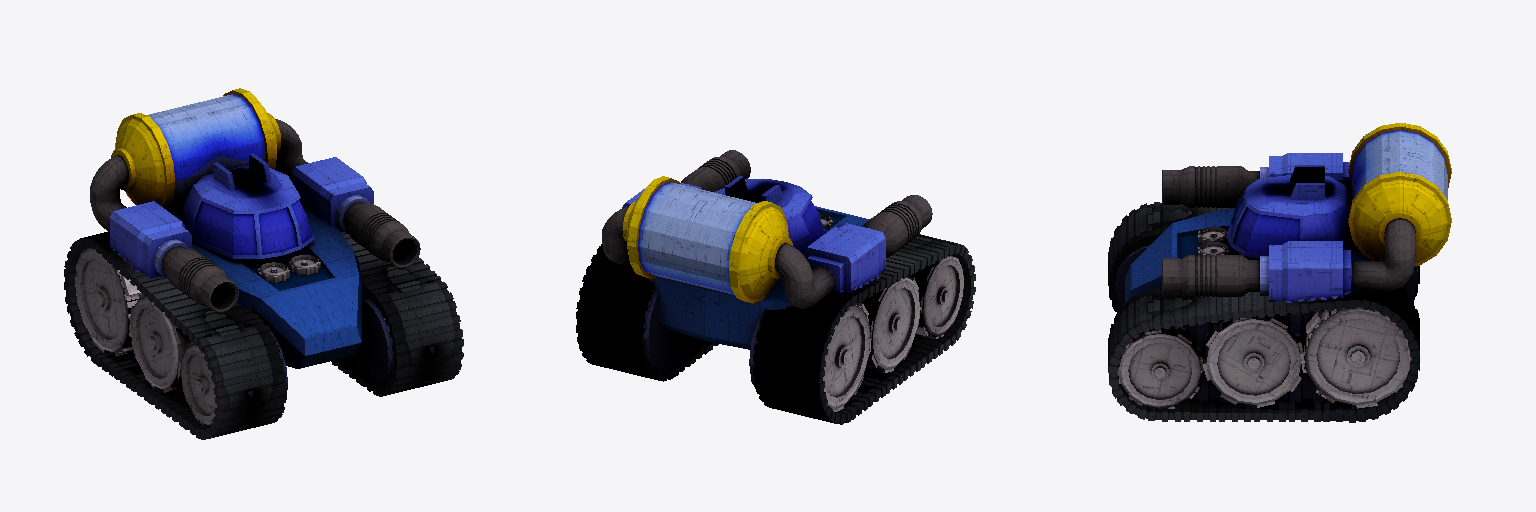
The picture shows the model from 3 angles: view 1: azimuth 30°, elevation 25°; view 2: azimuth 150°, elevation 25°; view 3: azimuth 270°, elevation 25°; orthographic projection.
Parts seen in each view (by area): view 1: Object001, Box042, Object004, Object003, Object002; view 2: Object001, Box042, Object003, Object004, Object002; view 3: Object001, Box042, Object004, Object003, Object002.
Part boxes in pixels (bbox=[...]): Object001: bbox=[90, 88, 420, 398]; Box042: bbox=[64, 231, 463, 439]; Object004: bbox=[75, 248, 141, 355]; Object003: bbox=[130, 294, 190, 392]; Object002: bbox=[180, 342, 216, 425]; Object001: bbox=[602, 150, 932, 388]; Box042: bbox=[576, 234, 975, 424]; Object003: bbox=[864, 276, 920, 372]; Object004: bbox=[823, 303, 871, 411]; Object002: bbox=[913, 256, 963, 339]; Object001: bbox=[1115, 123, 1451, 401]; Box042: bbox=[1108, 202, 1419, 422]; Object004: bbox=[1300, 307, 1411, 408]; Object003: bbox=[1203, 314, 1303, 407]; Object002: bbox=[1117, 327, 1203, 408].
Bounding box in the file's own units: 121 × 101 × 147.
Materials: 2 (2 with a texture image).